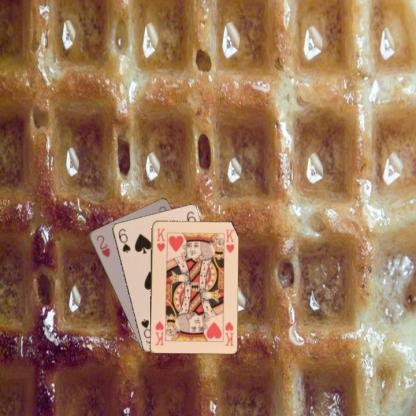2h: (94, 232, 111, 259)
6s: (116, 226, 132, 254)
Kh: (222, 319, 234, 347), (154, 225, 166, 252)
